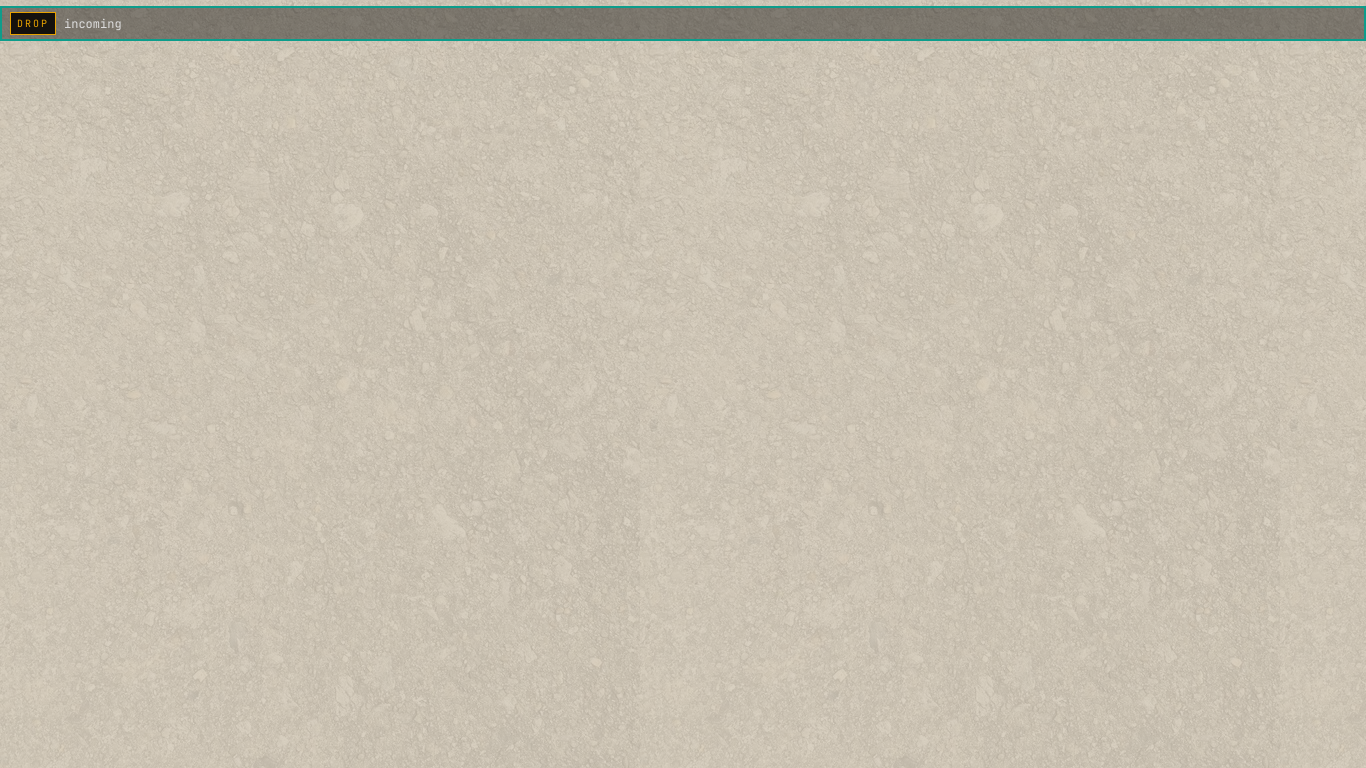
DropSlot › replaces the input with [DISABLED DURING SCREEN SHARE] while presenting
Click the button with test id "drop-slot": (33, 24) x1=0 y1=6 x2=1365 y2=41
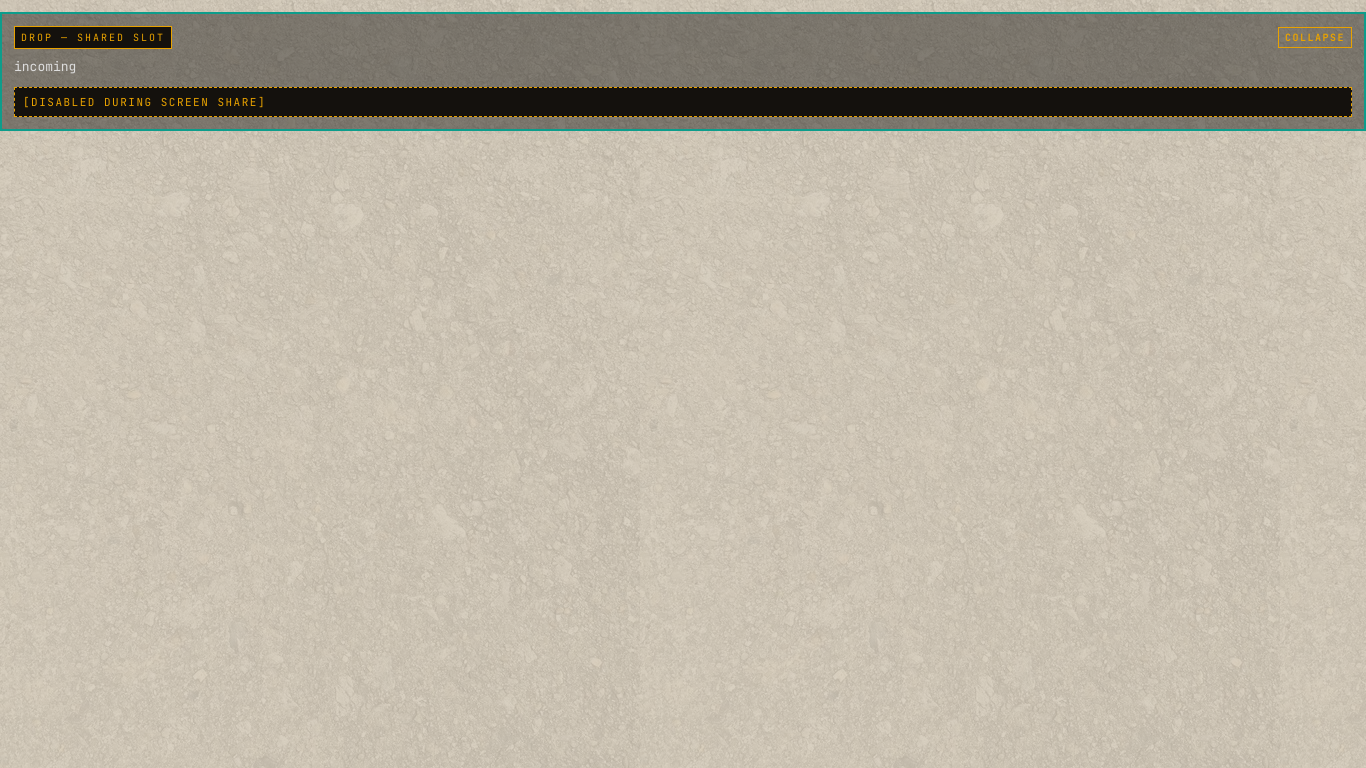
Expected: the message with test id "drop-slot-value" reads "incoming", x1=14 y1=58 x2=76 y2=75
Result: the text with test id "drop-slot-disabled" reads "[DISABLED DURING SCREEN SHARE]" at x1=23 y1=94 x2=266 y2=108
